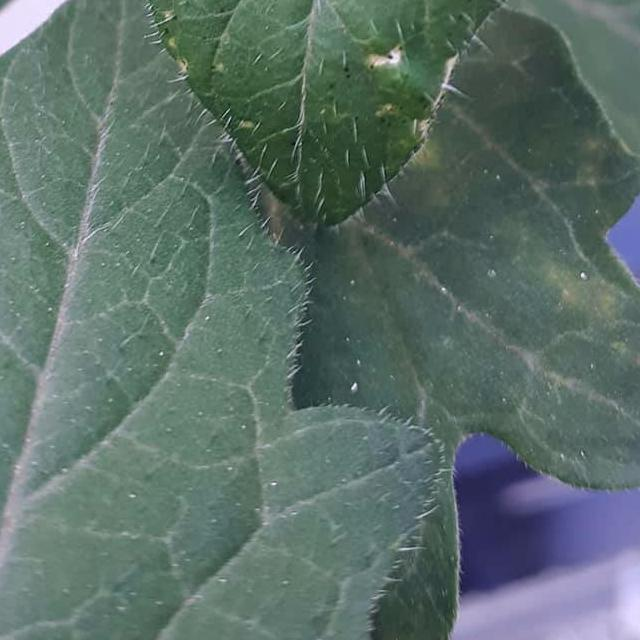Tomato mold leaf: (0, 0, 439, 640), (49, 0, 640, 248)
